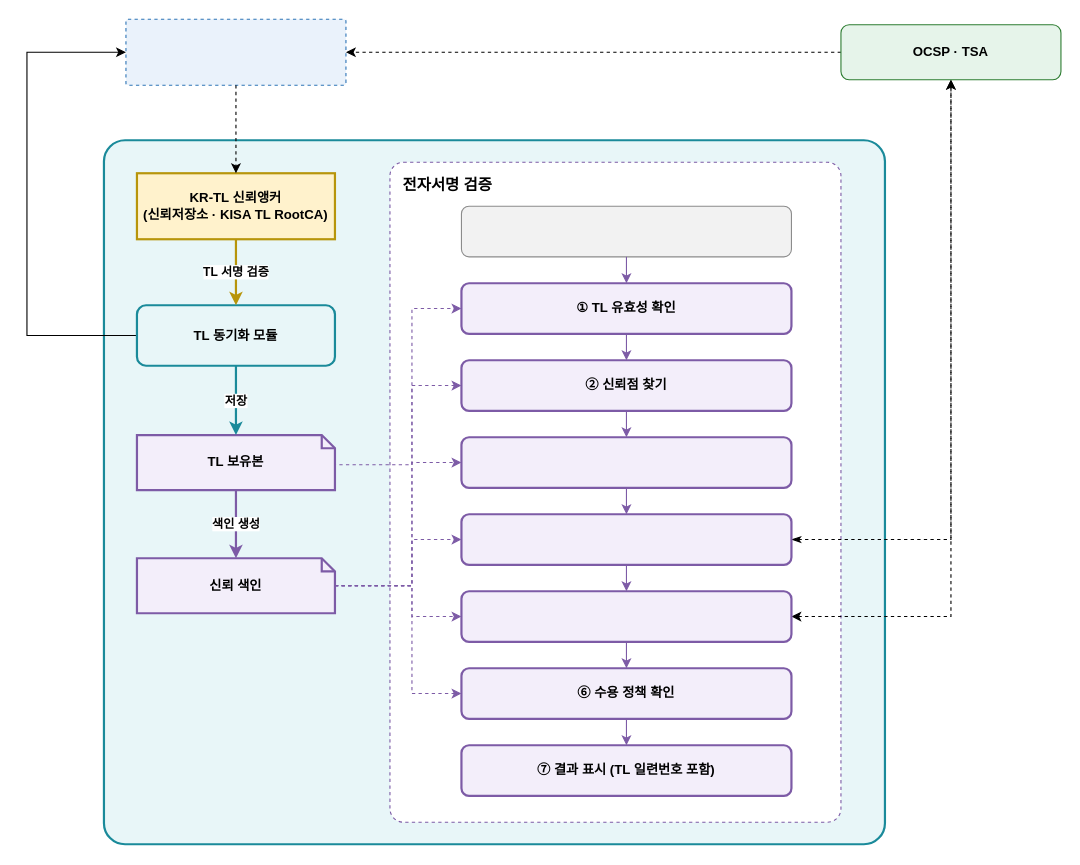
Some shapes in this 1080 by 865 pixel diagram are drawn without their labels. Each missing label, with the centre of its shape:
③ 서명 시점 서비스 상태: (626,462)
④ OCSP 응답 신뢰: (626,539)
⑤ 타임스탬프 신뢰: (626,616)
배포 시스템 (KISA): (235,51)
서명값 · 문서 무결성 확인: (625,231)
